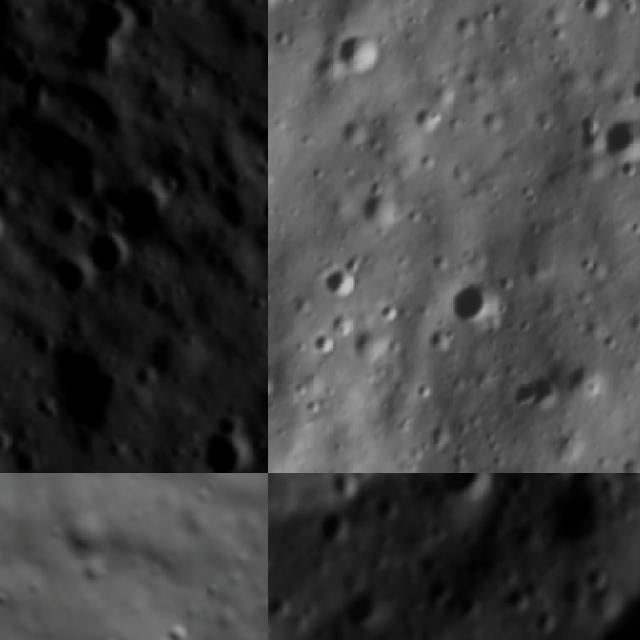crater: (268, 473, 537, 537), (551, 473, 617, 562), (439, 276, 500, 340), (331, 19, 393, 80), (192, 416, 252, 473), (72, 224, 133, 276), (592, 109, 640, 172), (352, 186, 407, 239), (506, 365, 561, 417), (337, 593, 395, 640), (316, 259, 368, 308), (435, 473, 501, 508), (418, 321, 454, 358), (409, 103, 447, 138), (582, 557, 618, 591), (573, 0, 616, 22), (613, 445, 640, 473), (163, 617, 195, 640), (268, 533, 282, 582), (200, 578, 227, 601), (268, 362, 282, 404), (628, 67, 640, 101)
